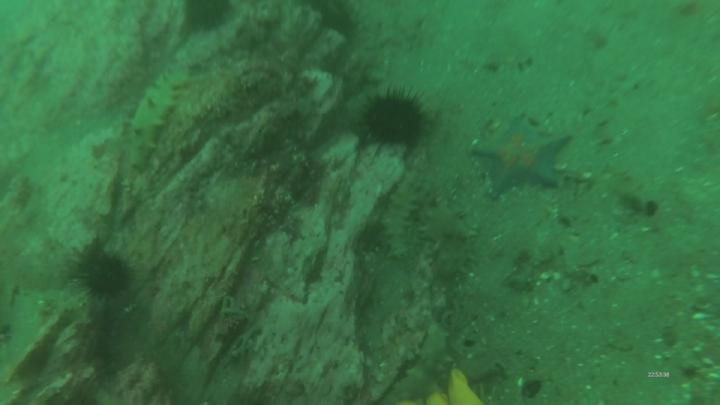echinus: (368, 92, 424, 148), (75, 251, 131, 290), (192, 5, 228, 30)
holothurian: (136, 69, 183, 163), (396, 320, 450, 398), (425, 204, 475, 279), (385, 177, 411, 266)
starfish: (472, 118, 569, 198)
